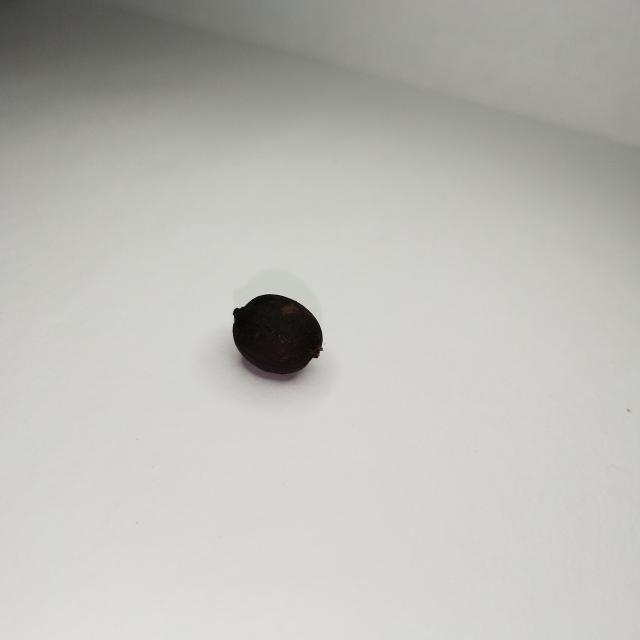Danado: (233, 295, 322, 379)
